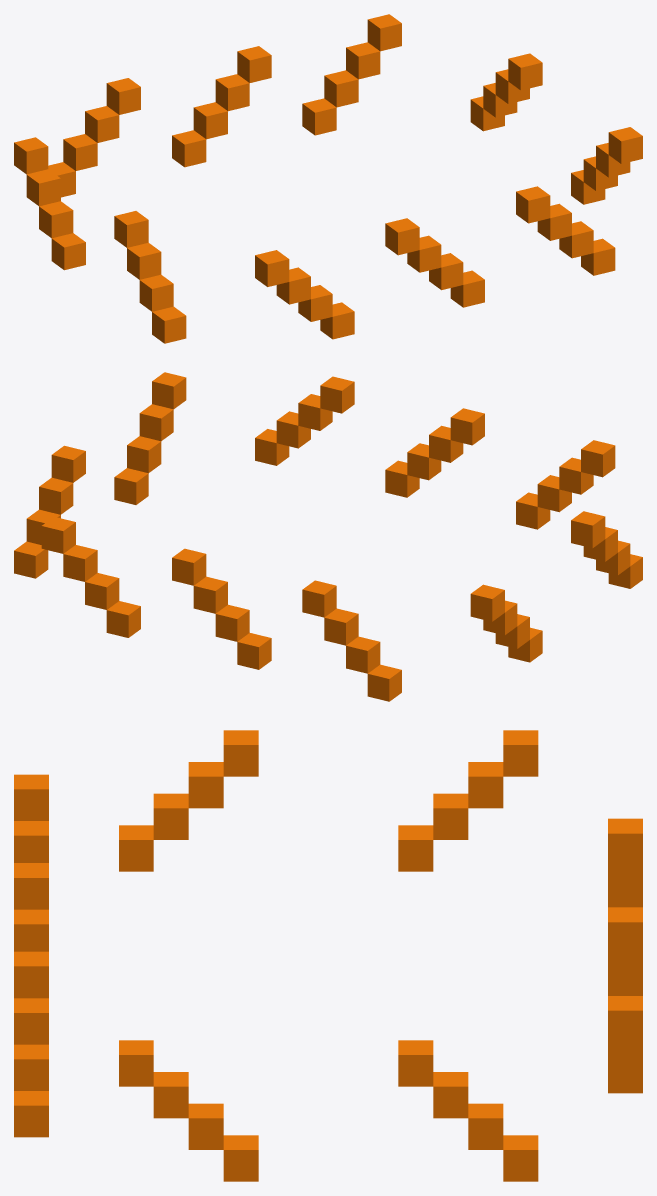
The picture shows the model from 3 angles, top to bottom: view 1: azimuth 30°, elevation 25°; view 2: azimuth 150°, elevation 25°; view 3: azimuth 270°, elevation 25°; orthographic projection. The views are drawn at different scales.
Parts seen in each view (by area): view 1: 80.1; view 2: 80.1; view 3: 80.1.
Part boxes in pixels (x1,y1,x2,y2): 80.1: [14, 14, 642, 343]; 80.1: [14, 372, 642, 701]; 80.1: [14, 730, 642, 1181].
Size of the model in its own units: 220 by 40 by 180.
1 material, 1 textured.
